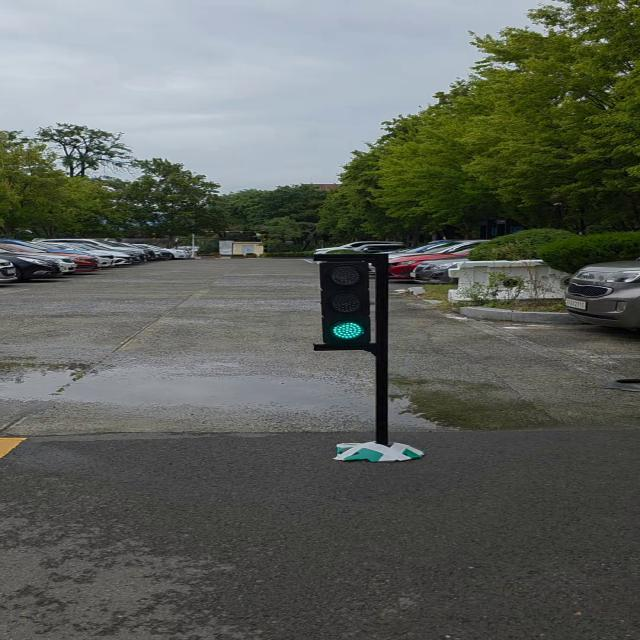green: (314, 256, 387, 348)
